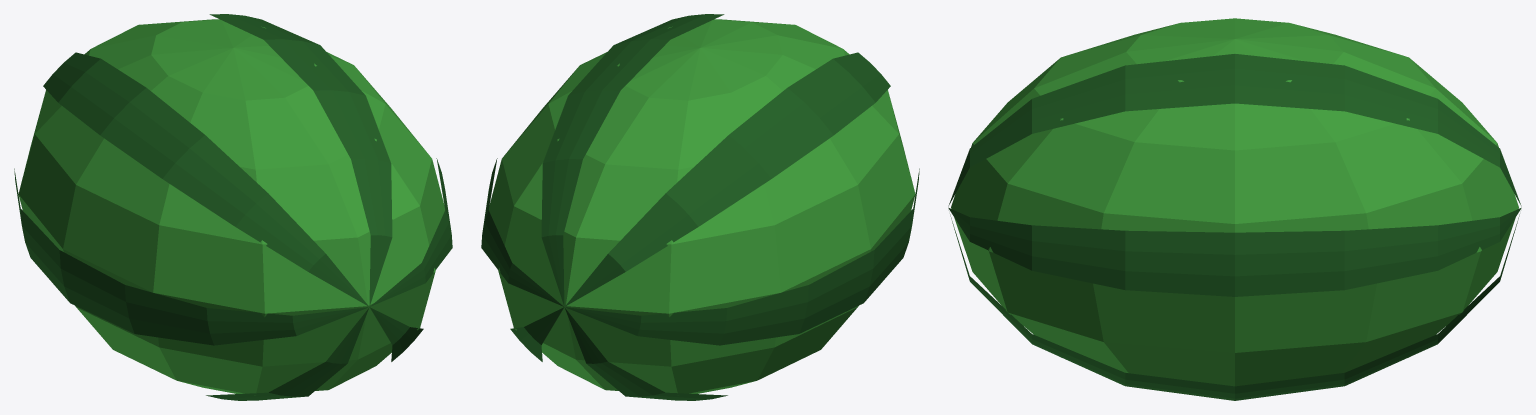
The model's file is watermelon.glb.
3 views of the same model, side by side, from view 1: azimuth 30°, elevation 25°; view 2: azimuth 150°, elevation 25°; view 3: azimuth 270°, elevation 25° (orthographic). The views are drawn at different scales.
Parts seen in each view (by area): view 1: rind_watermelon_rind, rind_watermelon_stripe; view 2: rind_watermelon_rind, rind_watermelon_stripe; view 3: rind_watermelon_rind, rind_watermelon_stripe.
Boxes of the visible parts, <box> form: rind_watermelon_rind: <box>18,19,444,395</box>; rind_watermelon_stripe: <box>14,14,452,400</box>; rind_watermelon_rind: <box>489,19,915,395</box>; rind_watermelon_stripe: <box>481,14,919,400</box>; rind_watermelon_rind: <box>951,18,1518,386</box>; rind_watermelon_stripe: <box>948,54,1521,400</box>.
Size of the model in its own units: 0.3876 by 0.3416 by 0.5252.
